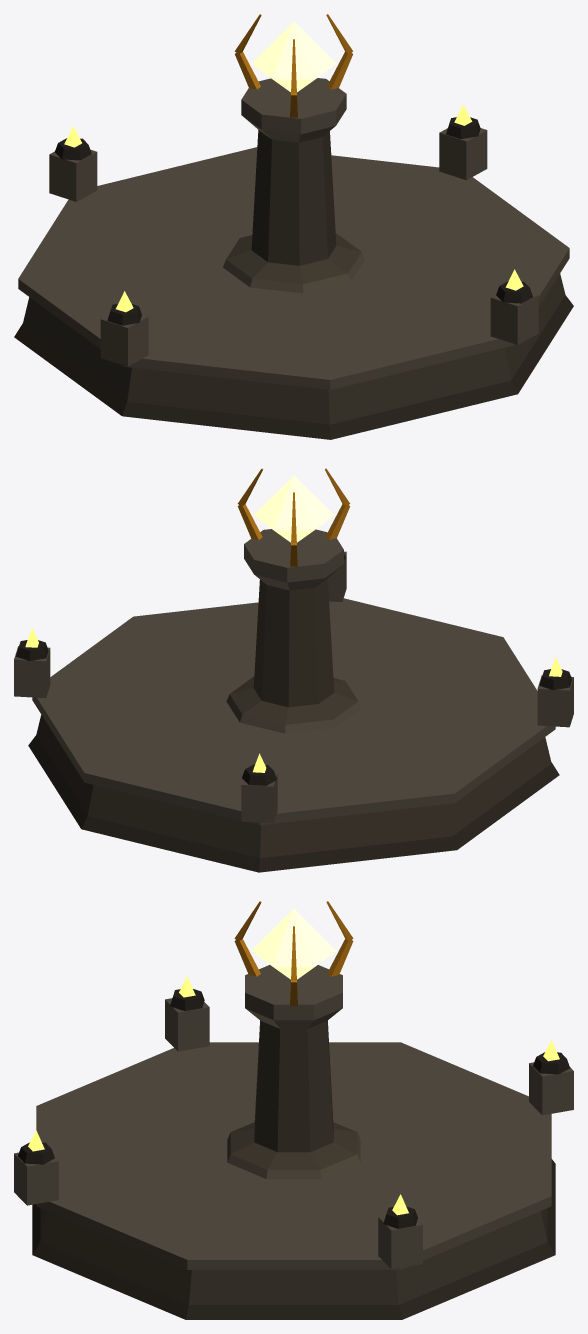
File: FonteDeBrasas.fbx
3 renders of one model, top to bottom at view 1: azimuth 30°, elevation 25°; view 2: azimuth 150°, elevation 25°; view 3: azimuth 270°, elevation 25°, orthographic. The views are drawn at different scales.
Visible parts, largest first — view 1: FonteDeBrasas, Gem; view 2: FonteDeBrasas, Gem; view 3: FonteDeBrasas, Gem.
Boxes of the visible parts, <box> form: FonteDeBrasas: <box>14,14,573,439</box>; Gem: <box>251,21,336,92</box>; FonteDeBrasas: <box>14,468,573,872</box>; Gem: <box>253,475,334,542</box>; FonteDeBrasas: <box>14,901,573,1319</box>; Gem: <box>251,908,336,979</box>.
Bounding box in the file's own units: 6.53 × 3.88 × 6.53.
